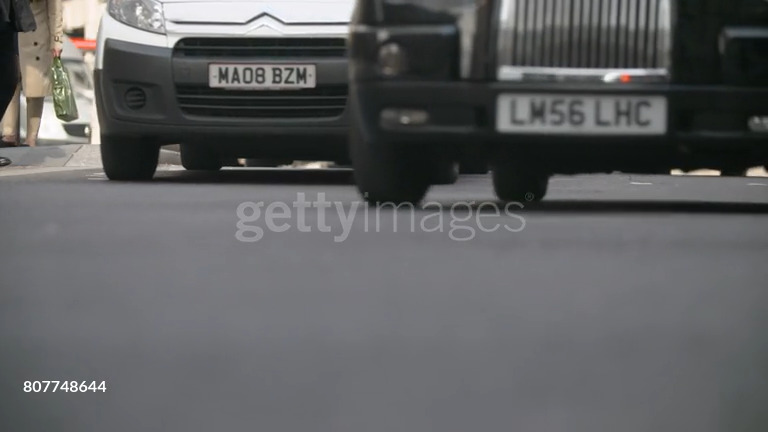car number: (495, 93, 667, 131), (208, 63, 319, 88)
